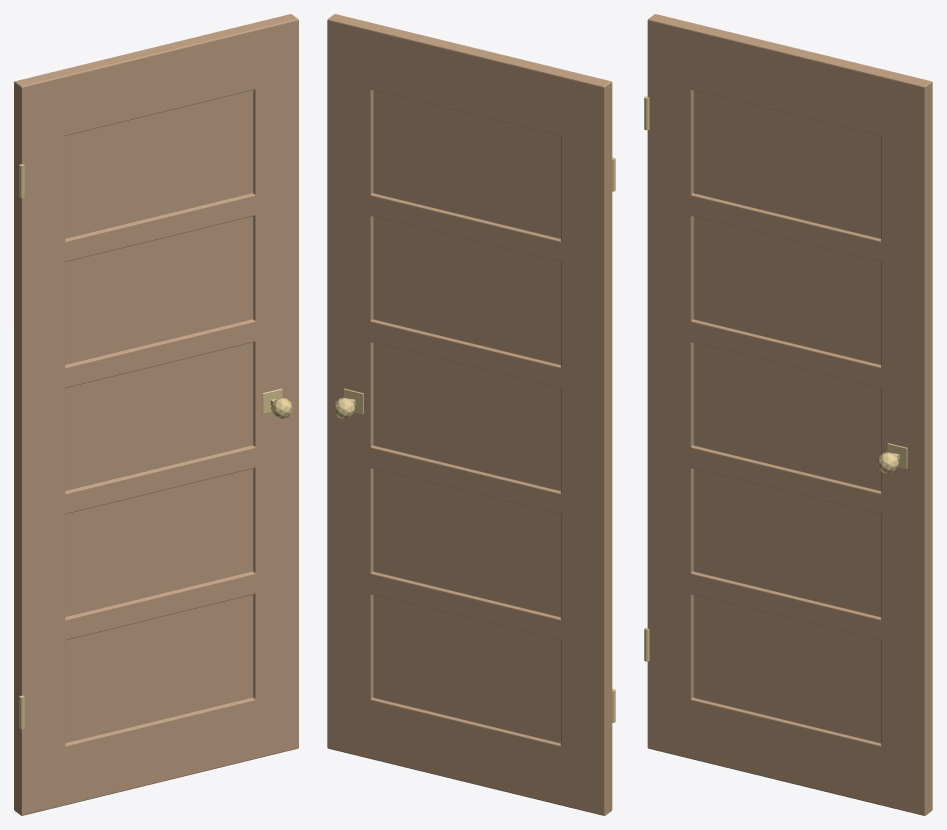
The model's file is door_leaf_interior.glb.
3 renders of one model, left to right at view 1: azimuth 30°, elevation 25°; view 2: azimuth 150°, elevation 25°; view 3: azimuth 330°, elevation 25°, orthographic.
Parts seen in each view (by area): view 1: door_leaf_interior_door_int, door_leaf_interior_brass; view 2: door_leaf_interior_door_int, door_leaf_interior_brass; view 3: door_leaf_interior_door_int, door_leaf_interior_brass.
Part boxes in pixels (<box>): door_leaf_interior_door_int: <box>14,14,298,815</box>; door_leaf_interior_brass: <box>19,164,292,729</box>; door_leaf_interior_door_int: <box>327,14,612,815</box>; door_leaf_interior_brass: <box>333,157,615,722</box>; door_leaf_interior_door_int: <box>647,14,932,815</box>; door_leaf_interior_brass: <box>644,96,907,661</box>.
Bounding box in the file's own units: 0.827 × 2.06 × 0.196.
